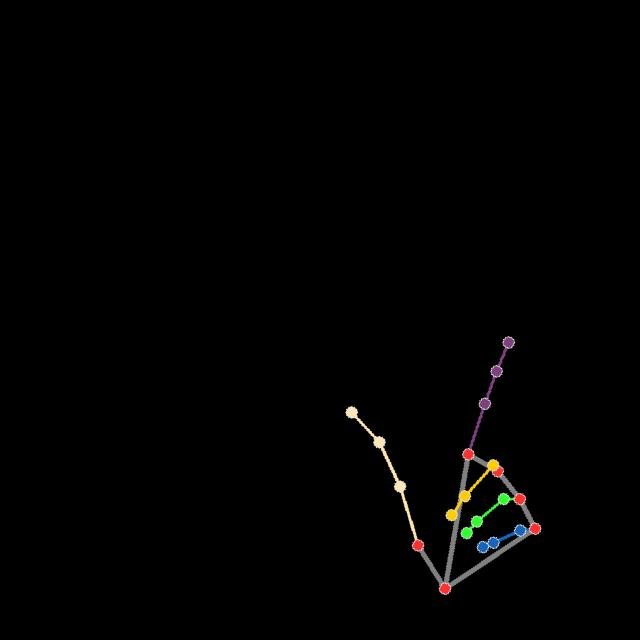gun: (345, 335, 545, 597)
